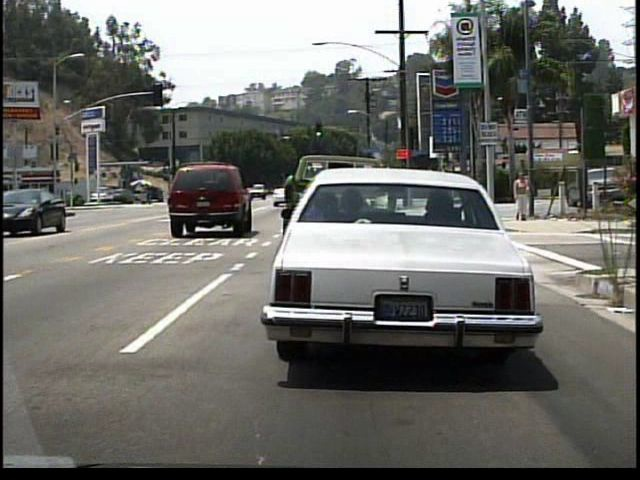person: (512, 170, 533, 224)
